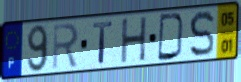9: (25, 23, 51, 74)
D: (156, 12, 186, 63)
H: (120, 14, 149, 65)
R: (51, 21, 81, 71)
S: (188, 9, 216, 59)
T: (91, 20, 115, 66)
